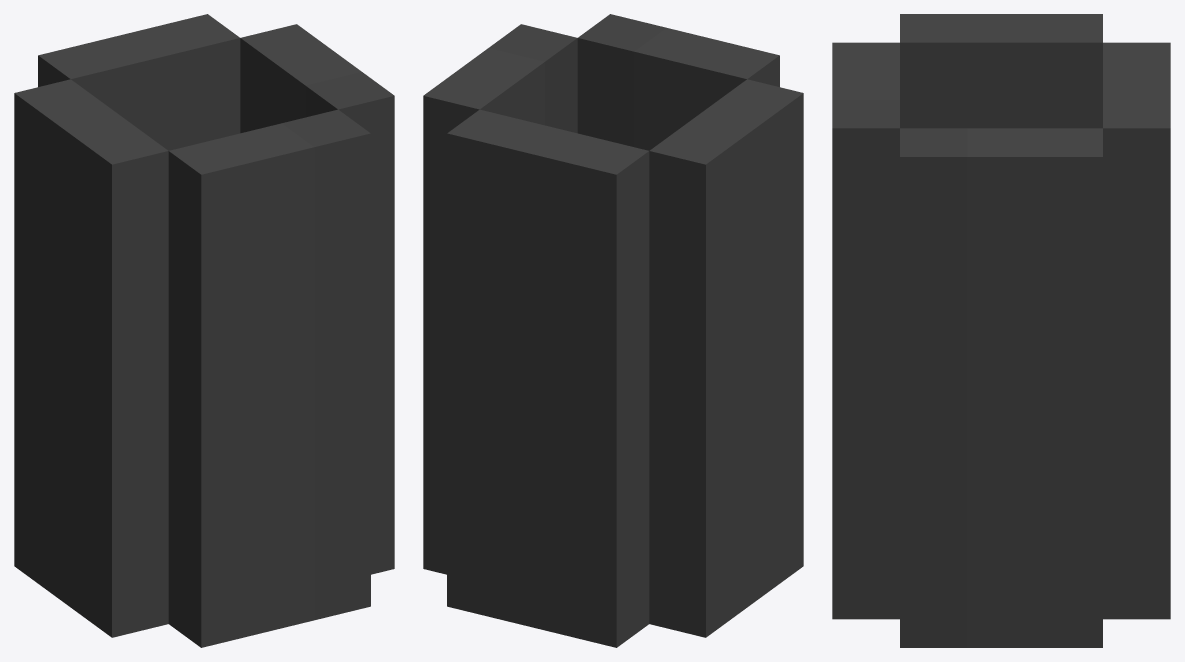
Rendered from Decor-26.obj.
3 views of the same model, side by side, from view 1: azimuth 30°, elevation 25°; view 2: azimuth 150°, elevation 25°; view 3: azimuth 270°, elevation 25° (orthographic). The views are drawn at different scales.
Bounding box in the file's own units: 0.5 × 0.8 × 0.5.
1 material, 1 textured.
